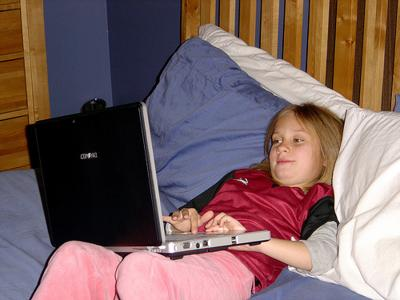person: (30, 103, 345, 300)
